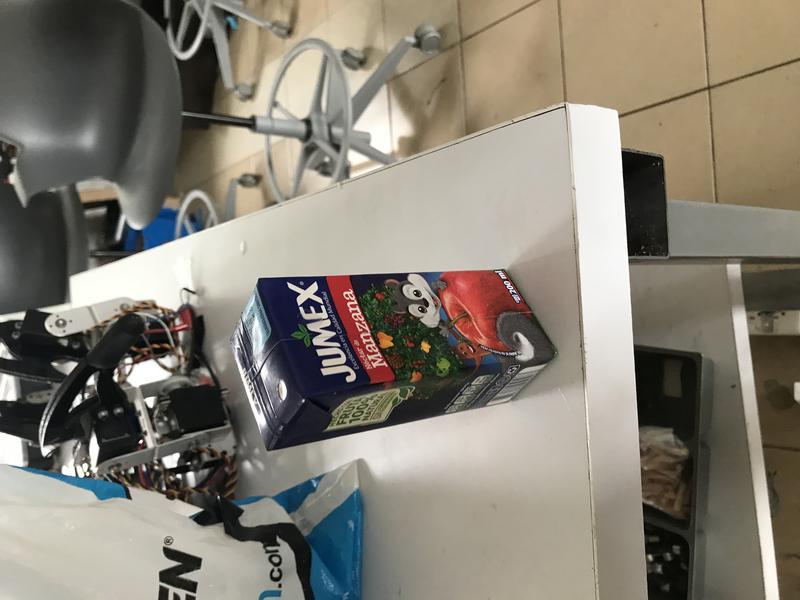jumex_cajita: (229, 267, 555, 452)
